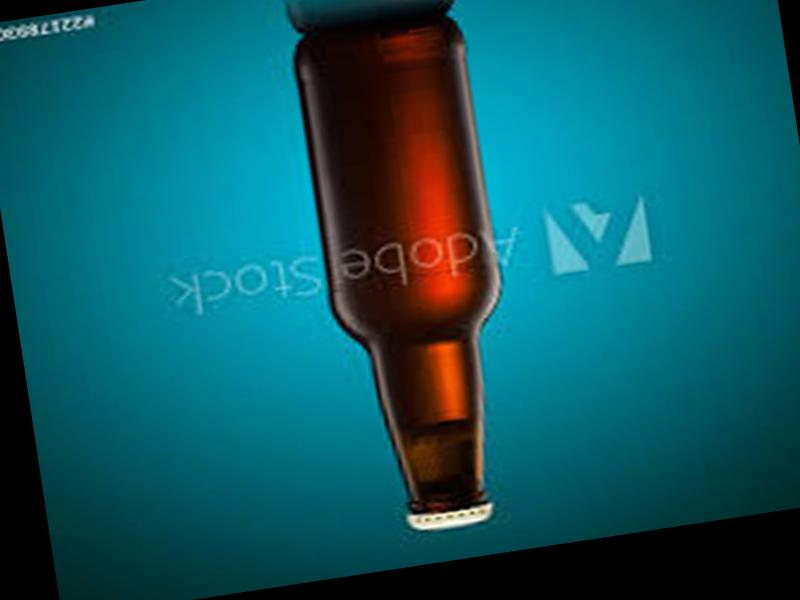Beer: (286, 8, 535, 541)
